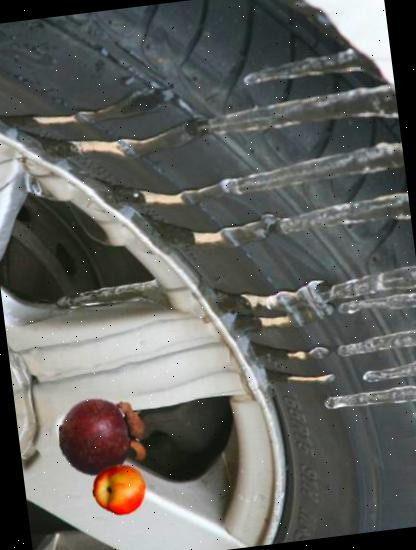Mangostan: (54, 388, 152, 486)
Nectarine: (90, 460, 148, 520)
